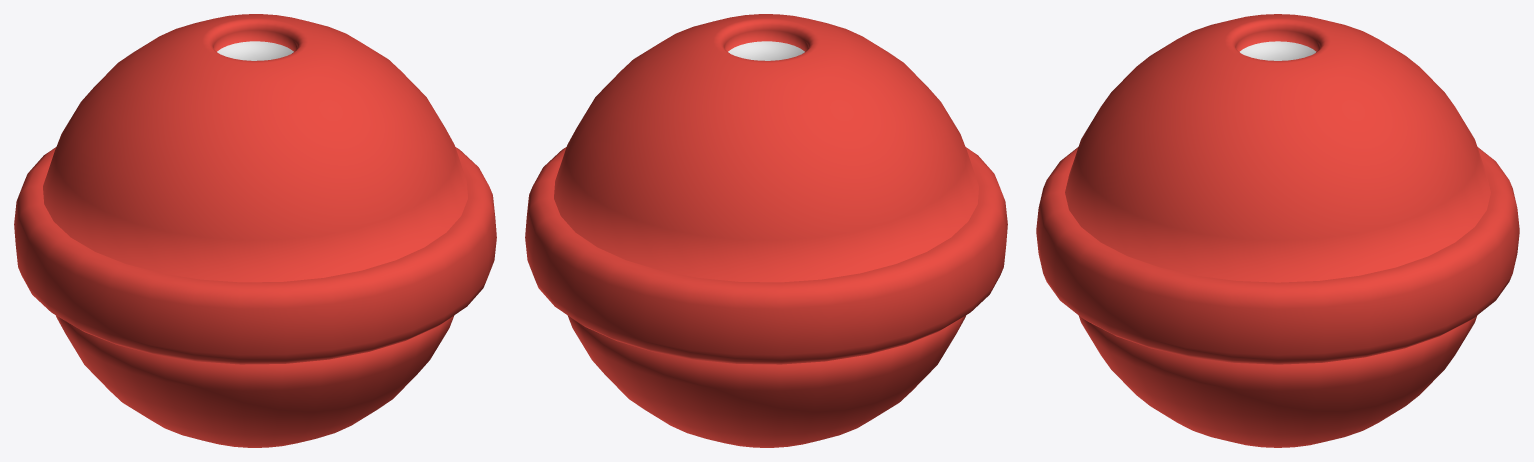
Rendered from ball.fbx.
The picture shows the model from 3 angles, left to right: view 1: azimuth 30°, elevation 25°; view 2: azimuth 150°, elevation 25°; view 3: azimuth 270°, elevation 25°; orthographic projection.
Visible parts, largest first — view 1: Sphere; view 2: Sphere; view 3: Sphere.
Boxes of the visible parts, x1,y1,x2,y2 form: Sphere: (14, 14, 496, 447); Sphere: (525, 14, 1007, 447); Sphere: (1036, 14, 1519, 447).
Size of the model in its own units: 388 by 337 by 388.
